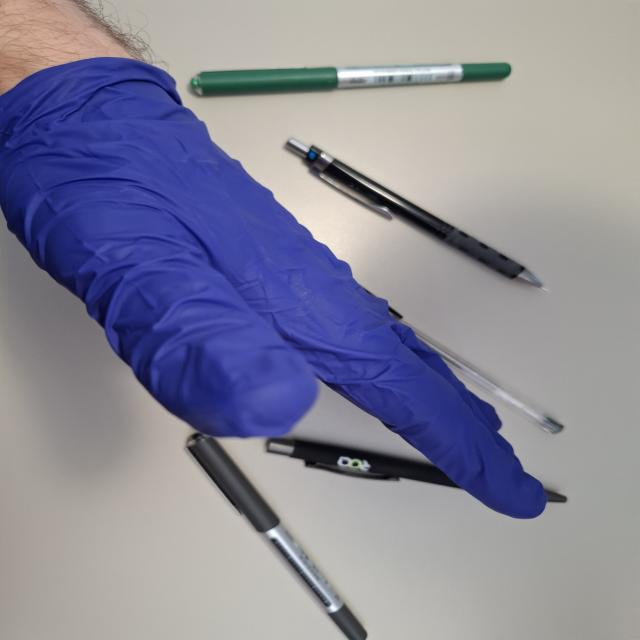glove_on: (0, 46, 552, 524)
